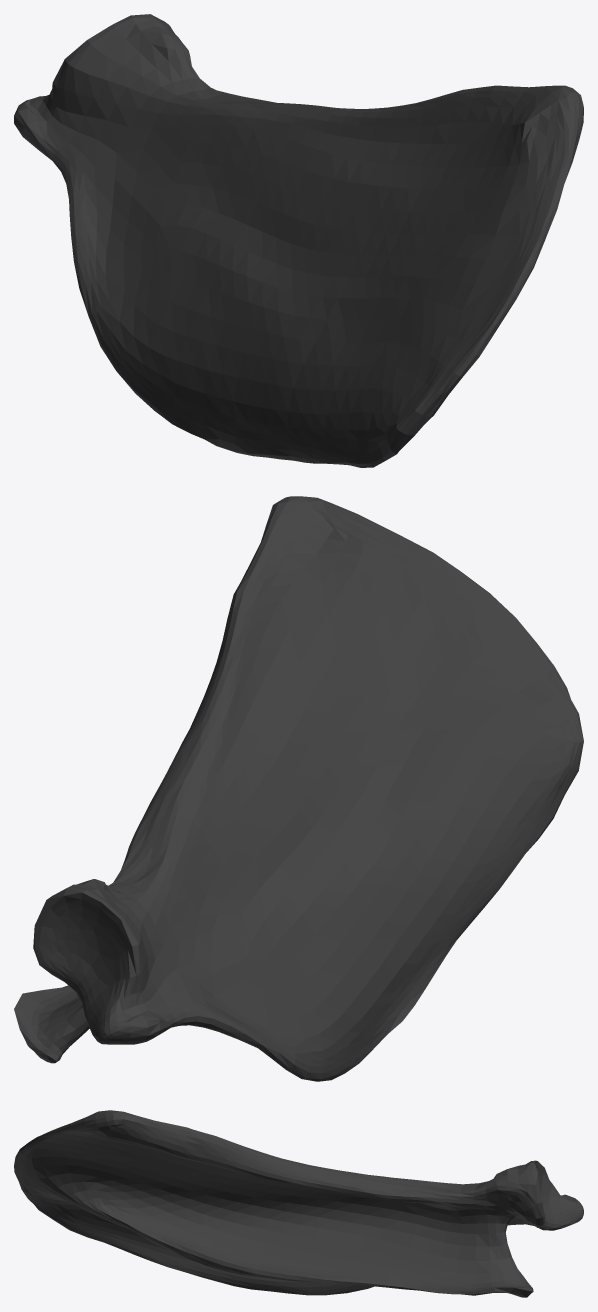
The model's file is Scapula.glb.
3 renders of one model, top to bottom at view 1: azimuth 30°, elevation 25°; view 2: azimuth 150°, elevation 25°; view 3: azimuth 270°, elevation 25°, orthographic. The views are drawn at different scales.
Visible parts, largest first — view 1: Scapula; view 2: Scapula; view 3: Scapula.
Part boxes in pixels (<box>): Scapula: <box>14,14,583,467</box>; Scapula: <box>14,496,583,1081</box>; Scapula: <box>14,1110,583,1297</box>.
Size of the model in its own units: 0.7796 by 1.16 by 2.33.
Materials: 1 (1 with a texture image).
